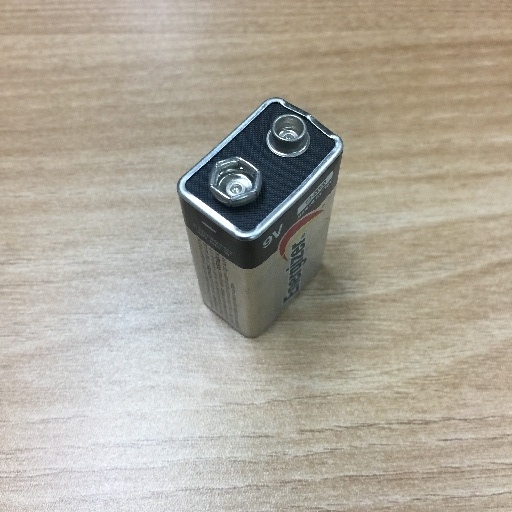Battery_3: (157, 79, 359, 346)
